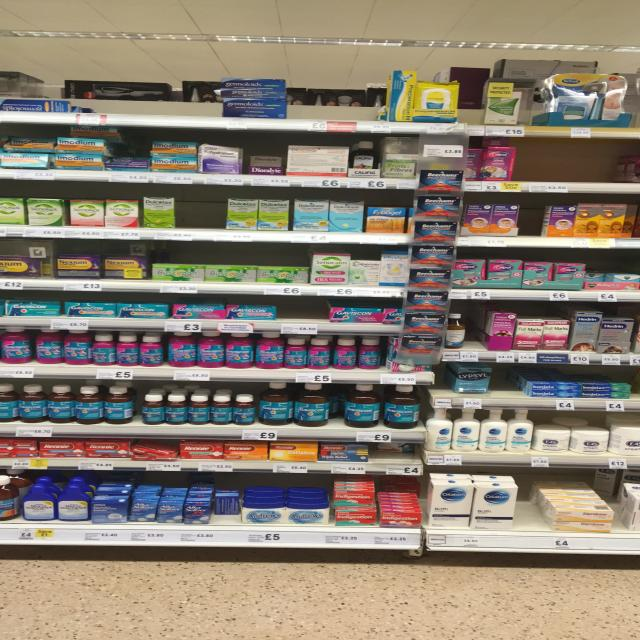void: (80, 77, 209, 115), (298, 68, 376, 116), (528, 146, 622, 180), (181, 198, 219, 228)
